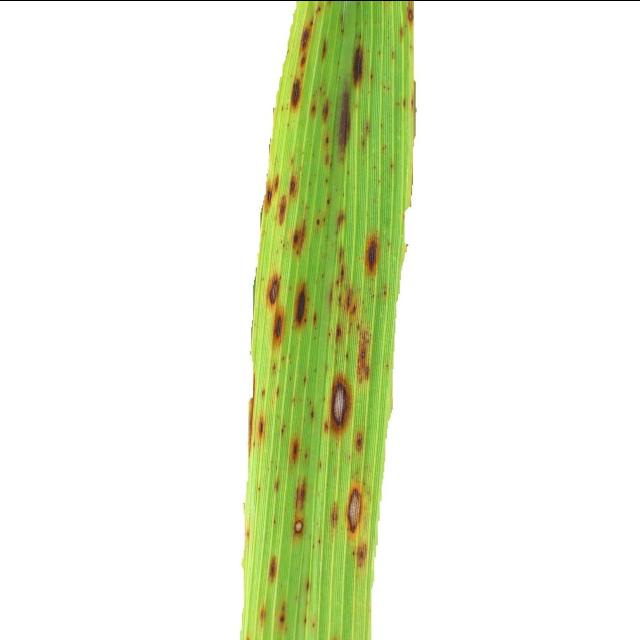Brown spot: (197, 0, 432, 640)
